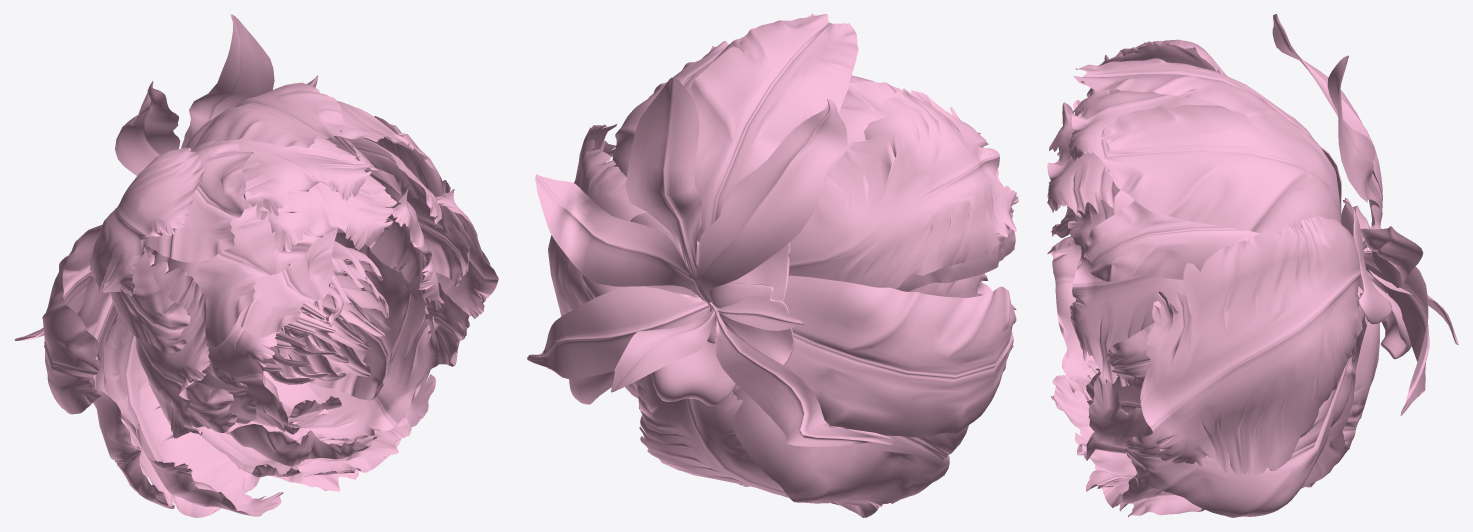
Rendered from HF _Rose_06.fbx.
3 views of the same model, side by side, from view 1: azimuth 30°, elevation 25°; view 2: azimuth 150°, elevation 25°; view 3: azimuth 270°, elevation 25° (orthographic). The views are drawn at different scales.
Parts seen in each view (by area): view 1: 牡丹花; view 2: 牡丹花; view 3: 牡丹花.
Boxes of the visible parts, <box> form: 牡丹花: <box>14,14,498,517</box>; 牡丹花: <box>527,14,1018,517</box>; 牡丹花: <box>1047,14,1458,517</box>.
Bounding box in the file's own units: 21.21 × 20.8 × 16.2.
